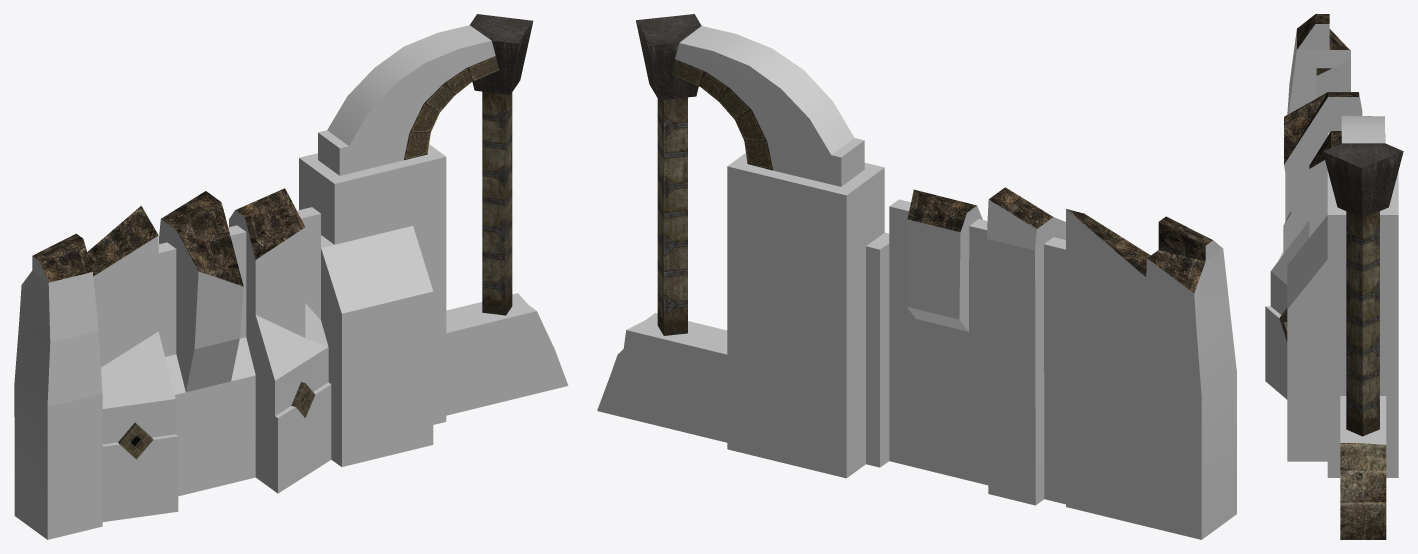
3 views of the same model, side by side, from view 1: azimuth 30°, elevation 25°; view 2: azimuth 150°, elevation 25°; view 3: azimuth 270°, elevation 25° (orthographic). The views are drawn at different scales.
Visible parts, largest first — view 1: Elements_Labirint_06; view 2: Elements_Labirint_06; view 3: Elements_Labirint_06.
Boxes of the visible parts, x1,y1,x2,y2 form: Elements_Labirint_06: [14, 14, 568, 539]; Elements_Labirint_06: [597, 14, 1236, 539]; Elements_Labirint_06: [1265, 14, 1403, 539].
Bounding box in the file's own units: 1259 × 277 × 796.
